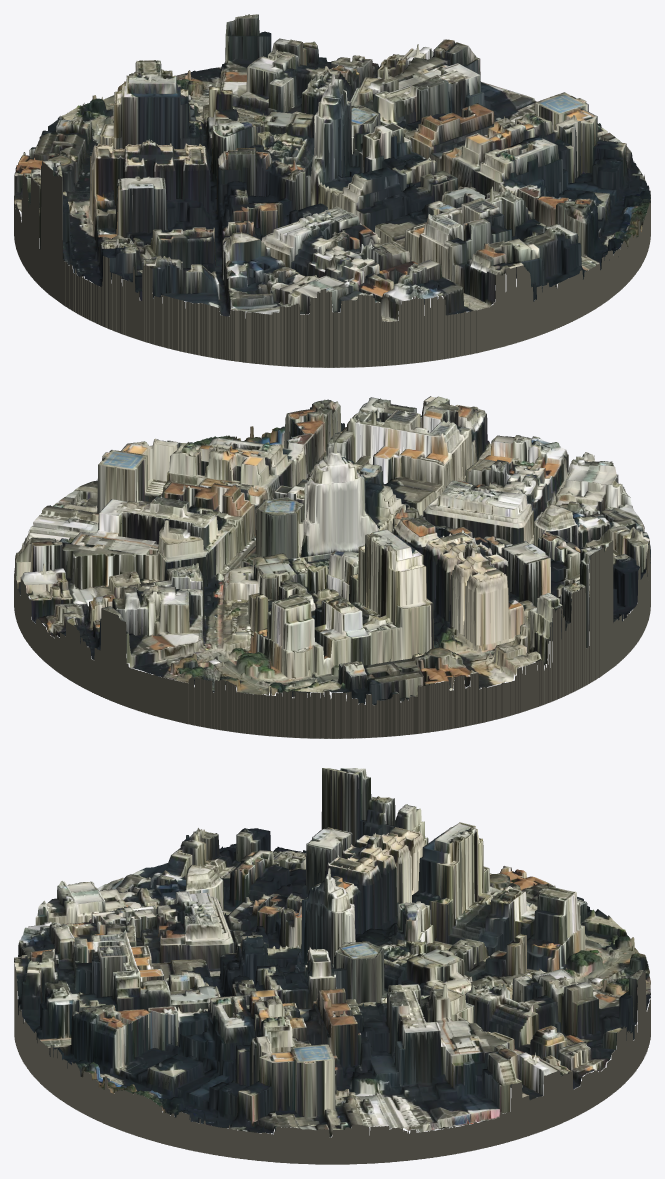
File: banespa-transformed.glb
3 views of the same model, one above another, from view 1: azimuth 30°, elevation 25°; view 2: azimuth 150°, elevation 25°; view 3: azimuth 270°, elevation 25° (orthographic).
Parts seen in each view (by area): view 1: Node; view 2: Node; view 3: Node.
Boxes of the visible parts, x1,y1,x2,y2 form: Node: (14, 14, 650, 367); Node: (14, 396, 650, 738); Node: (14, 768, 650, 1164).
Bounding box in the file's own units: 1332 × 371 × 1332.
1 material, 1 textured.
